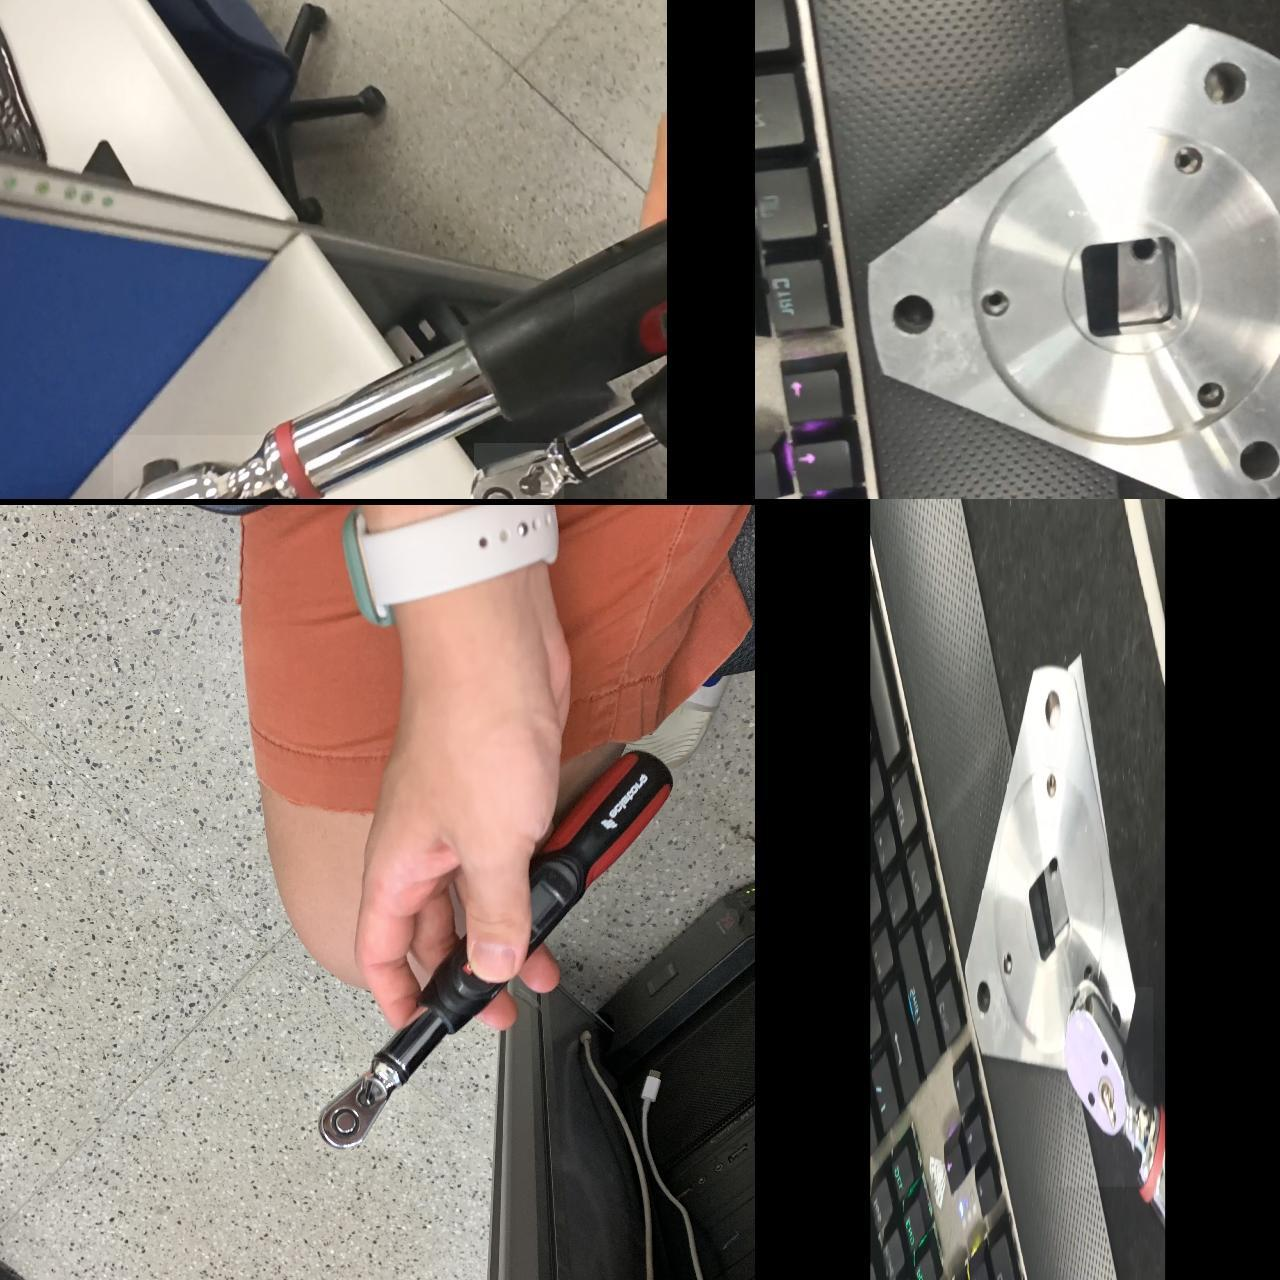Tool: (1062, 987, 1153, 1186), (113, 435, 274, 499), (312, 1063, 408, 1151), (474, 443, 563, 499)
